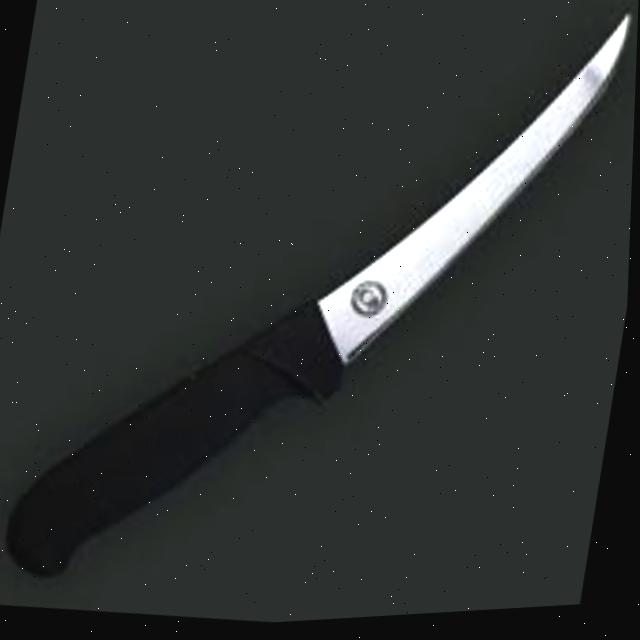knife: (0, 0, 634, 639)
